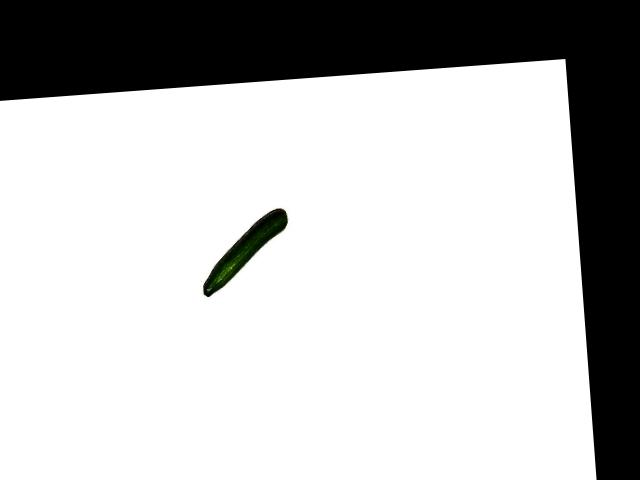cucumber: (197, 208, 293, 296)
